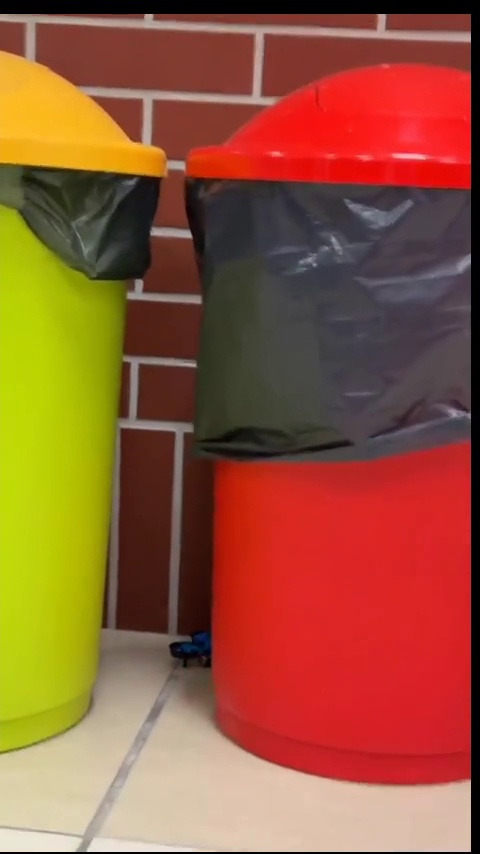drone: (169, 630, 211, 668)
